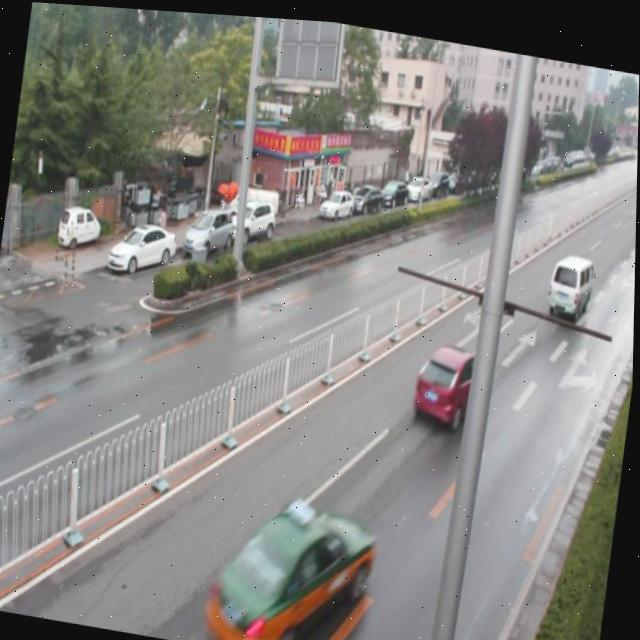car: (202, 481, 380, 640), (410, 330, 494, 427)
truck: (544, 240, 596, 313)
